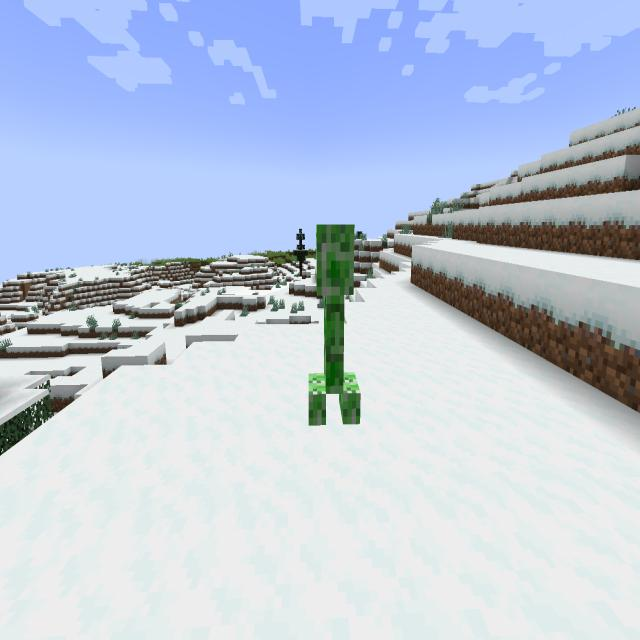Creeper: (302, 213, 366, 441)
